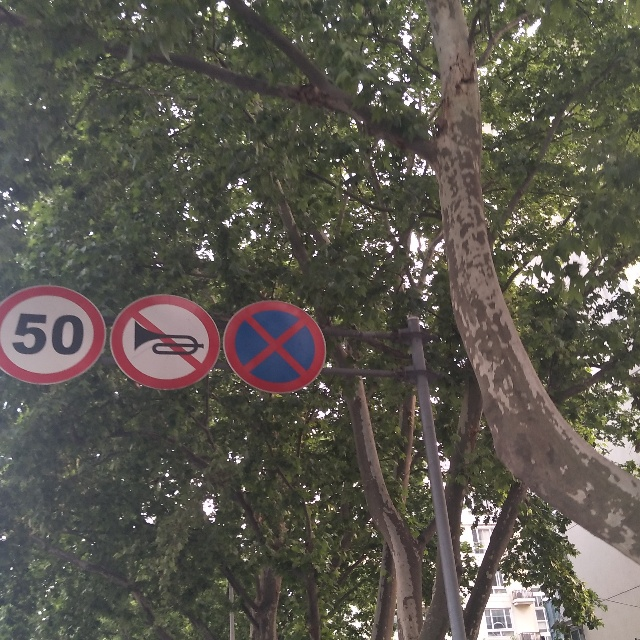nohonk: (118, 296, 216, 381)
stop: (227, 301, 323, 388)
